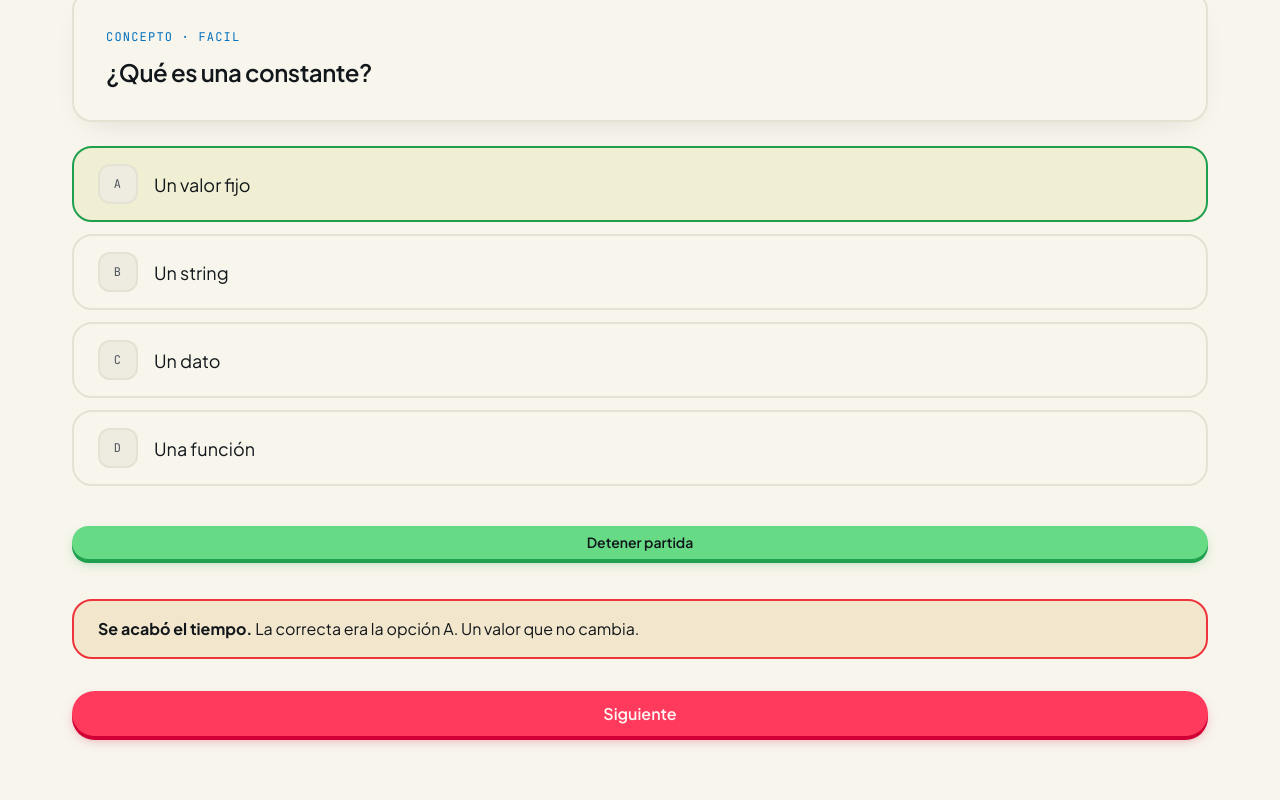
Quiz - temporizador › al agotarse el tiempo muestra el feedback de tiempo agotado
(page scrolled)
Expected: the text "Se acabó el tiempo." is shown, [98,618,252,639]
Expected: the text "La correcta era la opción A" is shown, [72,599,1208,659]
// Sigue permitiendo continuar a la siguiente pregunta.
Click the button "Siguiente" at (640, 713), box [72,691,1208,736]
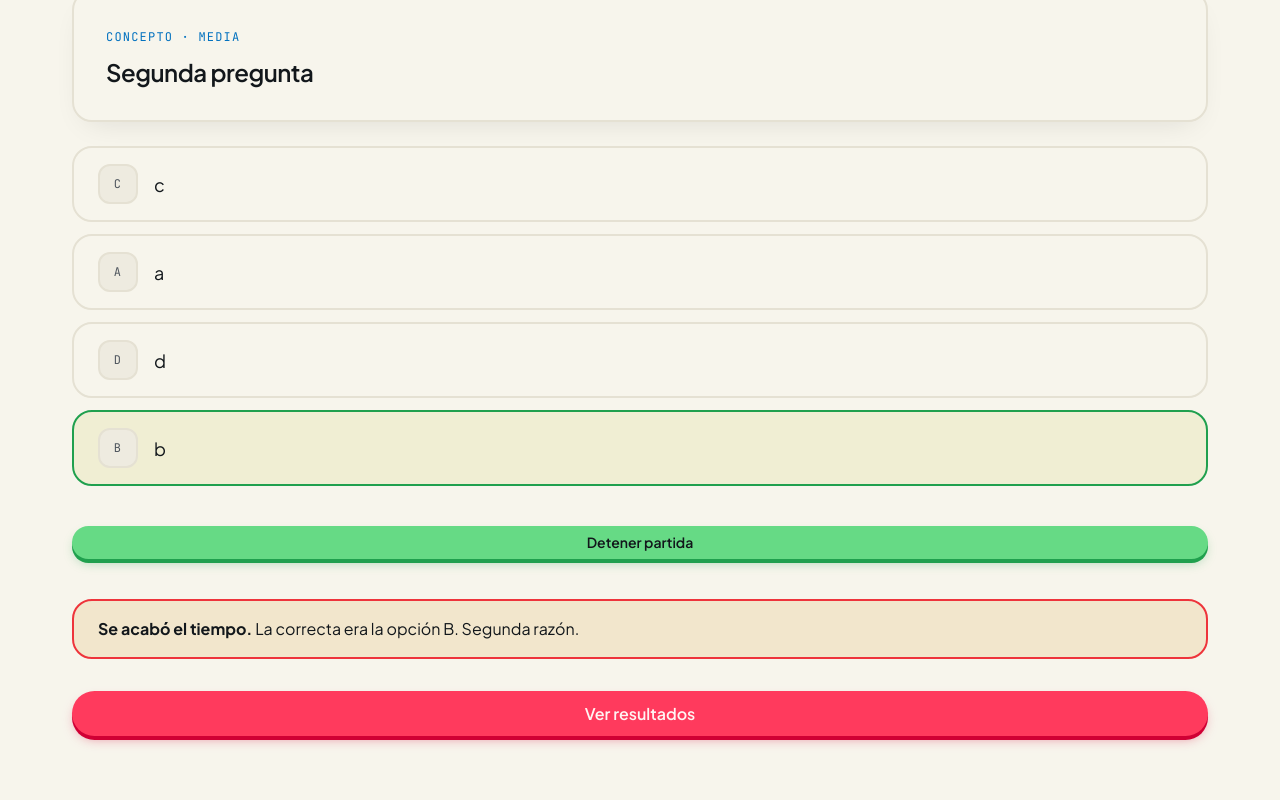
Expected: the heading "Segunda pregunta" is shown, [106,57,313,87]
